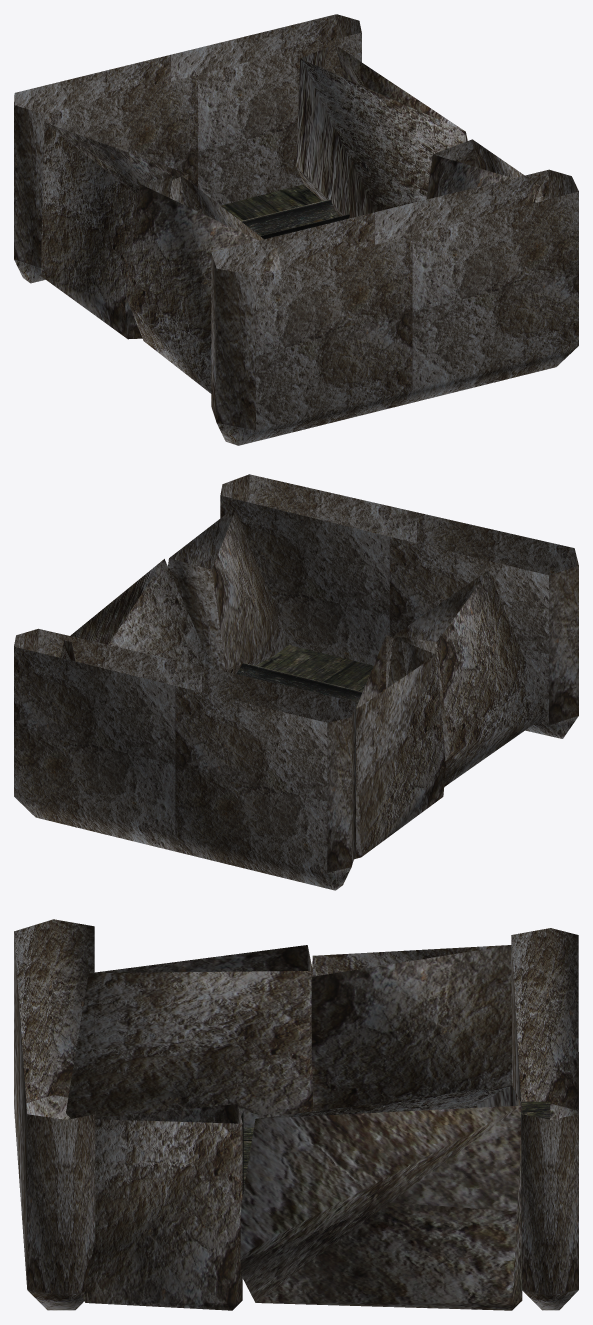
Rendered from ex_nord_win_02.obj.
3 views of the same model, one above another, from view 1: azimuth 30°, elevation 25°; view 2: azimuth 150°, elevation 25°; view 3: azimuth 270°, elevation 25° (orthographic). The views are drawn at different scales.
Parts seen in each view (by area): view 1: Tri Ex_nord_win_02 2, Tri Ex_nord_win_02 1, Tri Ex_nord_win_02 0; view 2: Tri Ex_nord_win_02 2, Tri Ex_nord_win_02 0, Tri Ex_nord_win_02 1; view 3: Tri Ex_nord_win_02 2, Tri Ex_nord_win_02 0.
Part boxes in pixels (left/top/right/bottom): Tri Ex_nord_win_02 2: left=14, top=14, right=578, bottom=445; Tri Ex_nord_win_02 1: left=241, top=199, right=349, bottom=239; Tri Ex_nord_win_02 0: left=221, top=184, right=338, bottom=235; Tri Ex_nord_win_02 2: left=14, top=474, right=578, bottom=890; Tri Ex_nord_win_02 0: left=256, top=645, right=373, bottom=691; Tri Ex_nord_win_02 1: left=236, top=662, right=362, bottom=706; Tri Ex_nord_win_02 2: left=14, top=919, right=578, bottom=1310; Tri Ex_nord_win_02 0: left=243, top=1101, right=550, bottom=1189.
Size of the model in its own units: 78.57 by 37.23 by 93.17.
Materials: 4 (4 with a texture image).
